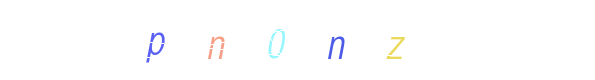0: (222, 0, 302, 80)
N: (200, 0, 280, 80), (257, 0, 337, 80)
P: (176, 0, 256, 80)
Z: (356, 0, 436, 80)
